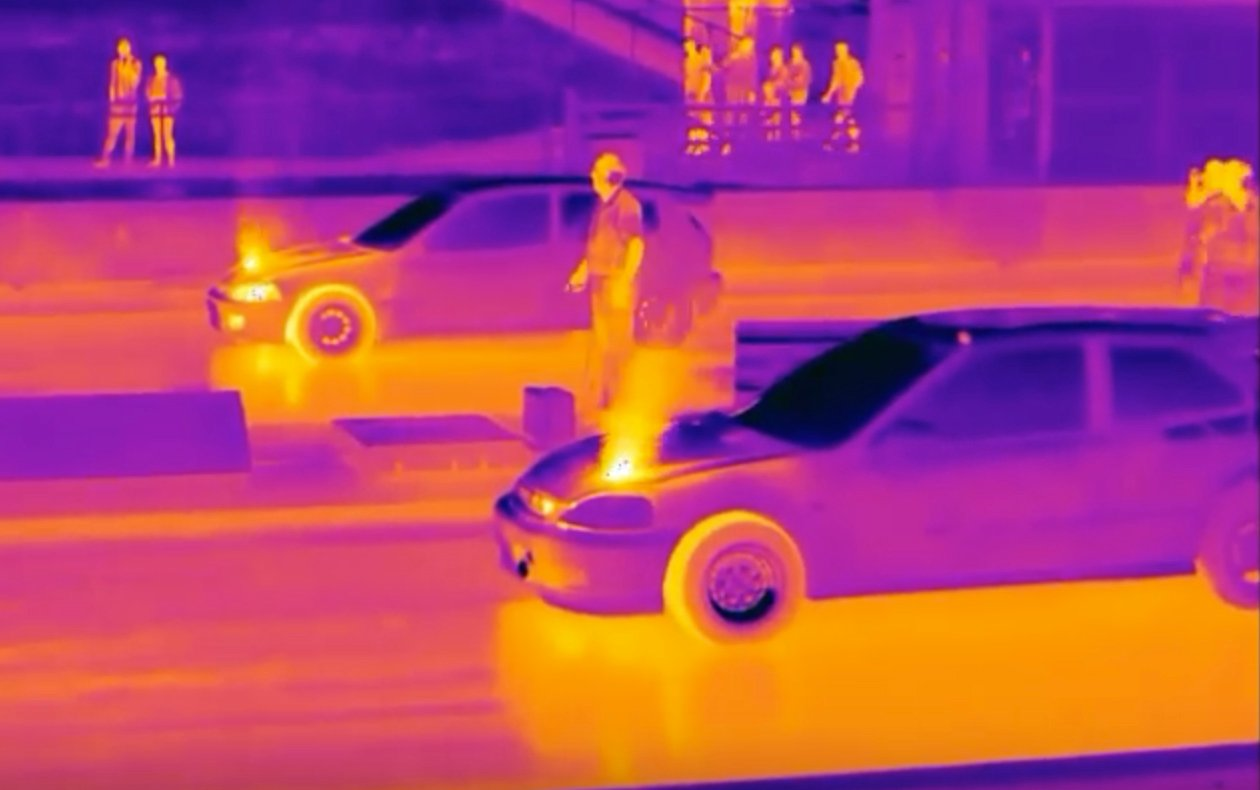car: (468, 288, 1260, 663), (200, 158, 731, 368)
person: (566, 150, 649, 407), (1190, 154, 1260, 314), (97, 34, 145, 168), (139, 45, 187, 179), (670, 34, 718, 168), (820, 37, 871, 152), (749, 36, 798, 143), (777, 34, 826, 141)
